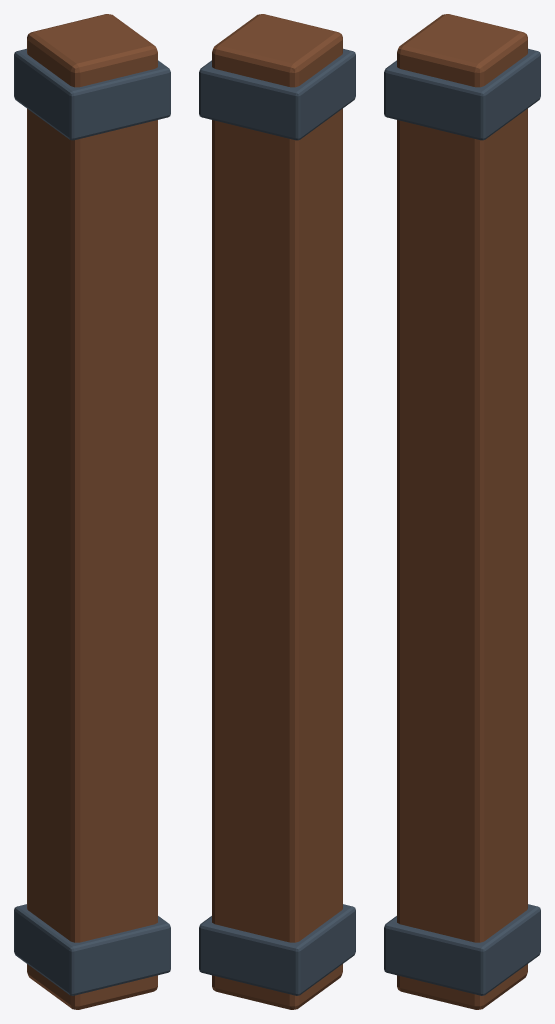
Rendered from pillar.glb.
The picture shows the model from 3 angles, left to right: view 1: azimuth 30°, elevation 25°; view 2: azimuth 150°, elevation 25°; view 3: azimuth 330°, elevation 25°; orthographic projection.
Parts seen in each view (by area): view 1: pillar; view 2: pillar; view 3: pillar.
Boxes of the visible parts, box(x1,y1,x2,y2) form: pillar: box(14, 14, 170, 1009); pillar: box(199, 14, 355, 1009); pillar: box(384, 14, 540, 1009).
Bounding box in the file's own units: 0.28 × 2.5 × 0.28.
